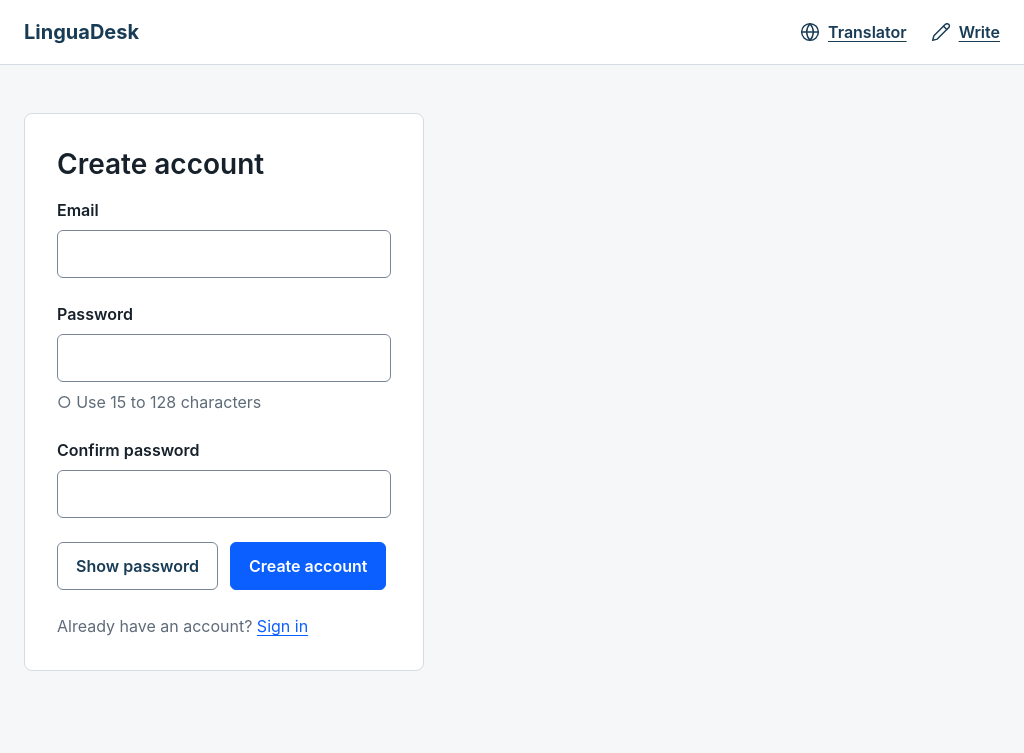
Test case: registration local validation › sends no request for invalid email shape with linked errors and first-invalid focus
Type "not-an-email" into the field labelled "Email".
click(224, 254); type("not-an-email")  # box [57, 230, 391, 278]
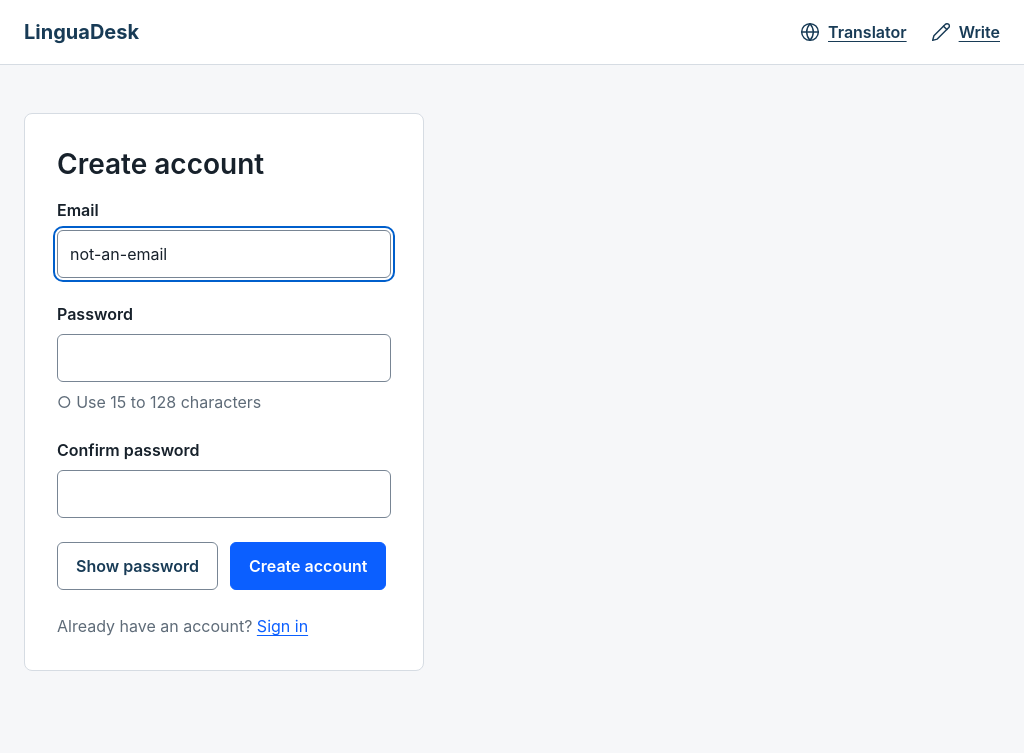
Type "Maple!River2026" into the password field labelled "Password".
click(224, 358); type("Maple!River2026")  # box [57, 334, 391, 382]
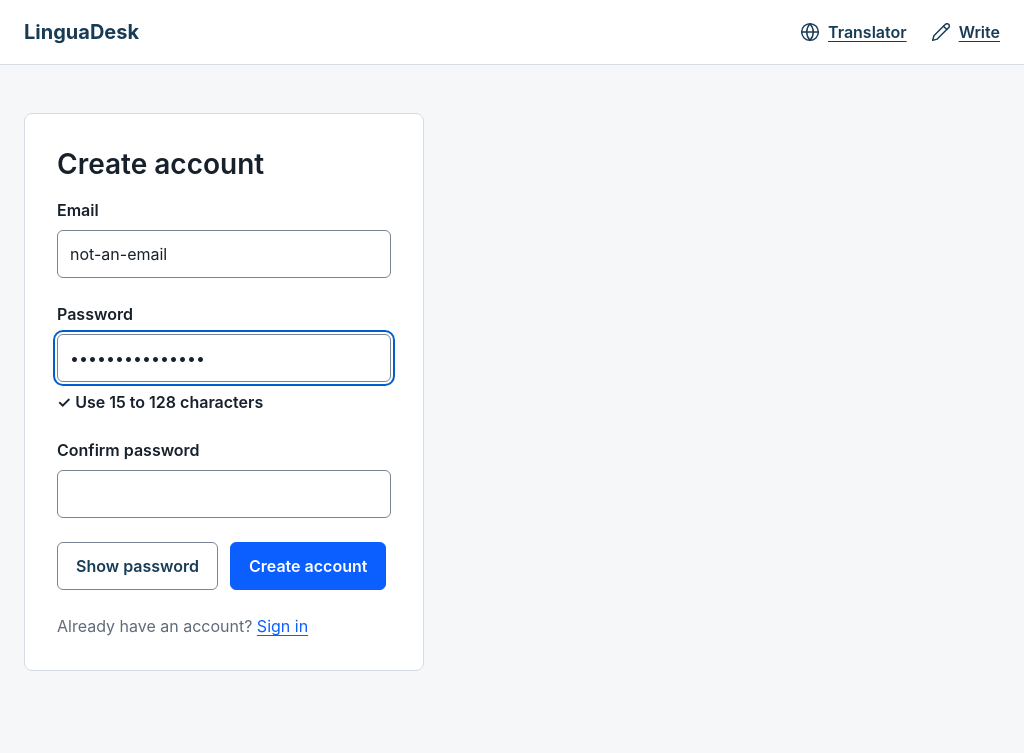
Type "Maple!River2026" into the password field labelled "Confirm password".
click(224, 494); type("Maple!River2026")  # box [57, 470, 391, 518]
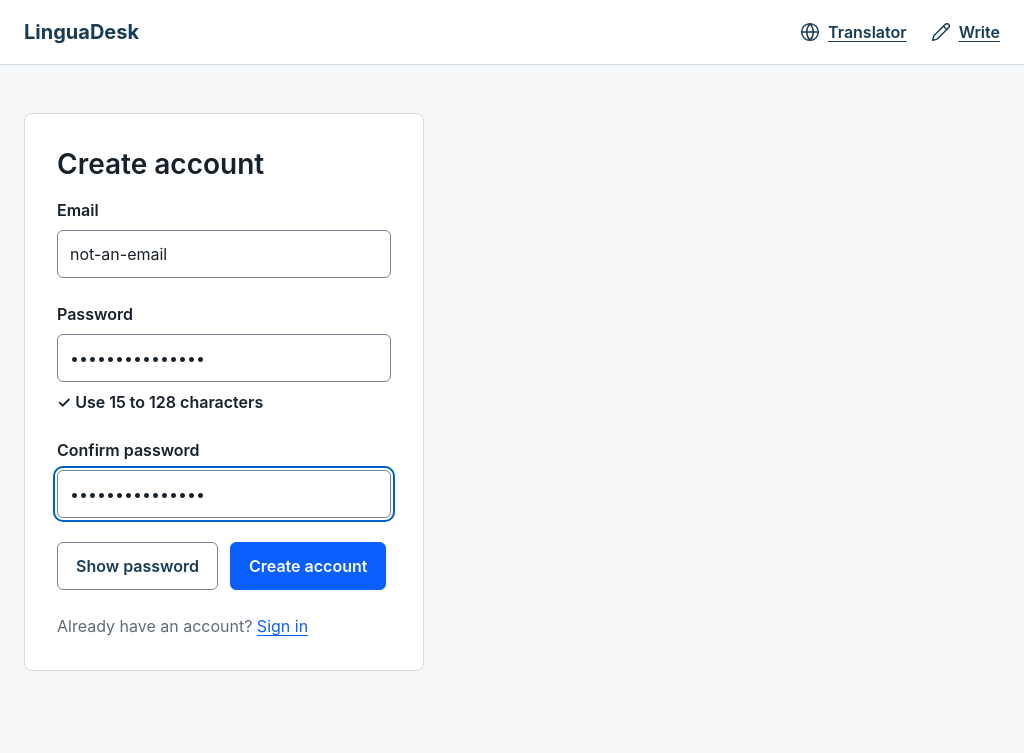
Click the button "Create account".
click(308, 566)  # box [230, 542, 386, 590]
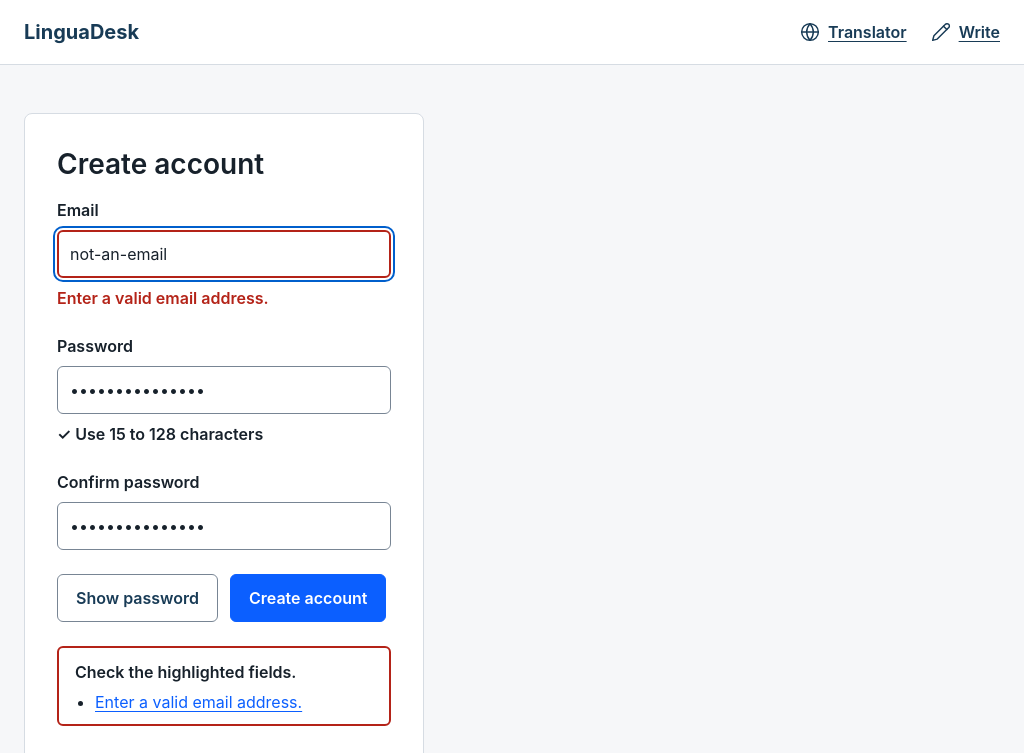
Now the text "Check the highlighted fields." is shown, box [75, 662, 296, 682]
Now the text "Enter a valid email address." is shown, box [57, 288, 269, 308]
